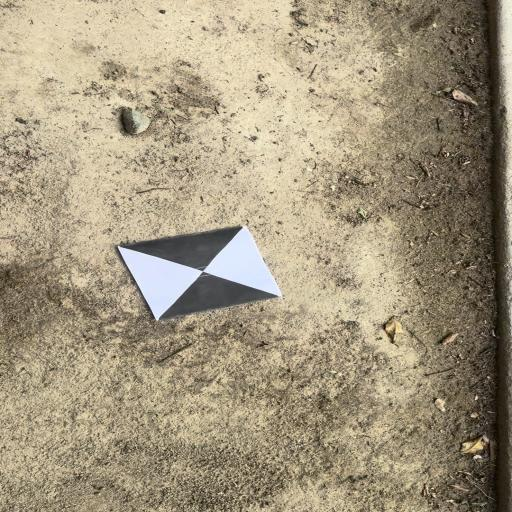target: (118, 226, 283, 320)
